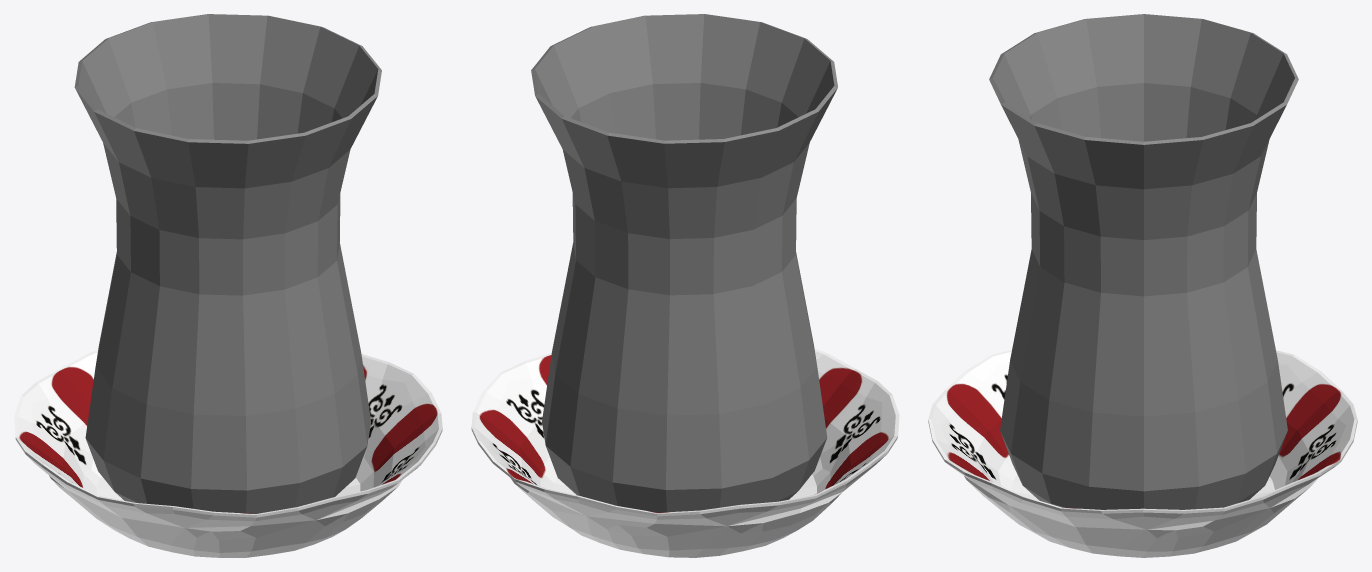
The model's file is TeaGlass(empty).fbx.
3 renders of one model, left to right at view 1: azimuth 30°, elevation 25°; view 2: azimuth 150°, elevation 25°; view 3: azimuth 270°, elevation 25°, orthographic.
Visible parts, largest first — view 1: TeaGlass, TeaGlassCoater; view 2: TeaGlass, TeaGlassCoater; view 3: TeaGlass, TeaGlassCoater.
Boxes of the visible parts, <box> form: TeaGlass: <box>74,14,381,513</box>; TeaGlassCoater: <box>14,350,442,557</box>; TeaGlass: <box>531,14,837,512</box>; TeaGlassCoater: <box>471,348,899,557</box>; TeaGlass: <box>989,14,1298,509</box>; TeaGlassCoater: <box>928,349,1357,557</box>.
Bounding box in the file's own units: 51.36 × 56.71 × 51.36.
2 materials, 1 textured.
